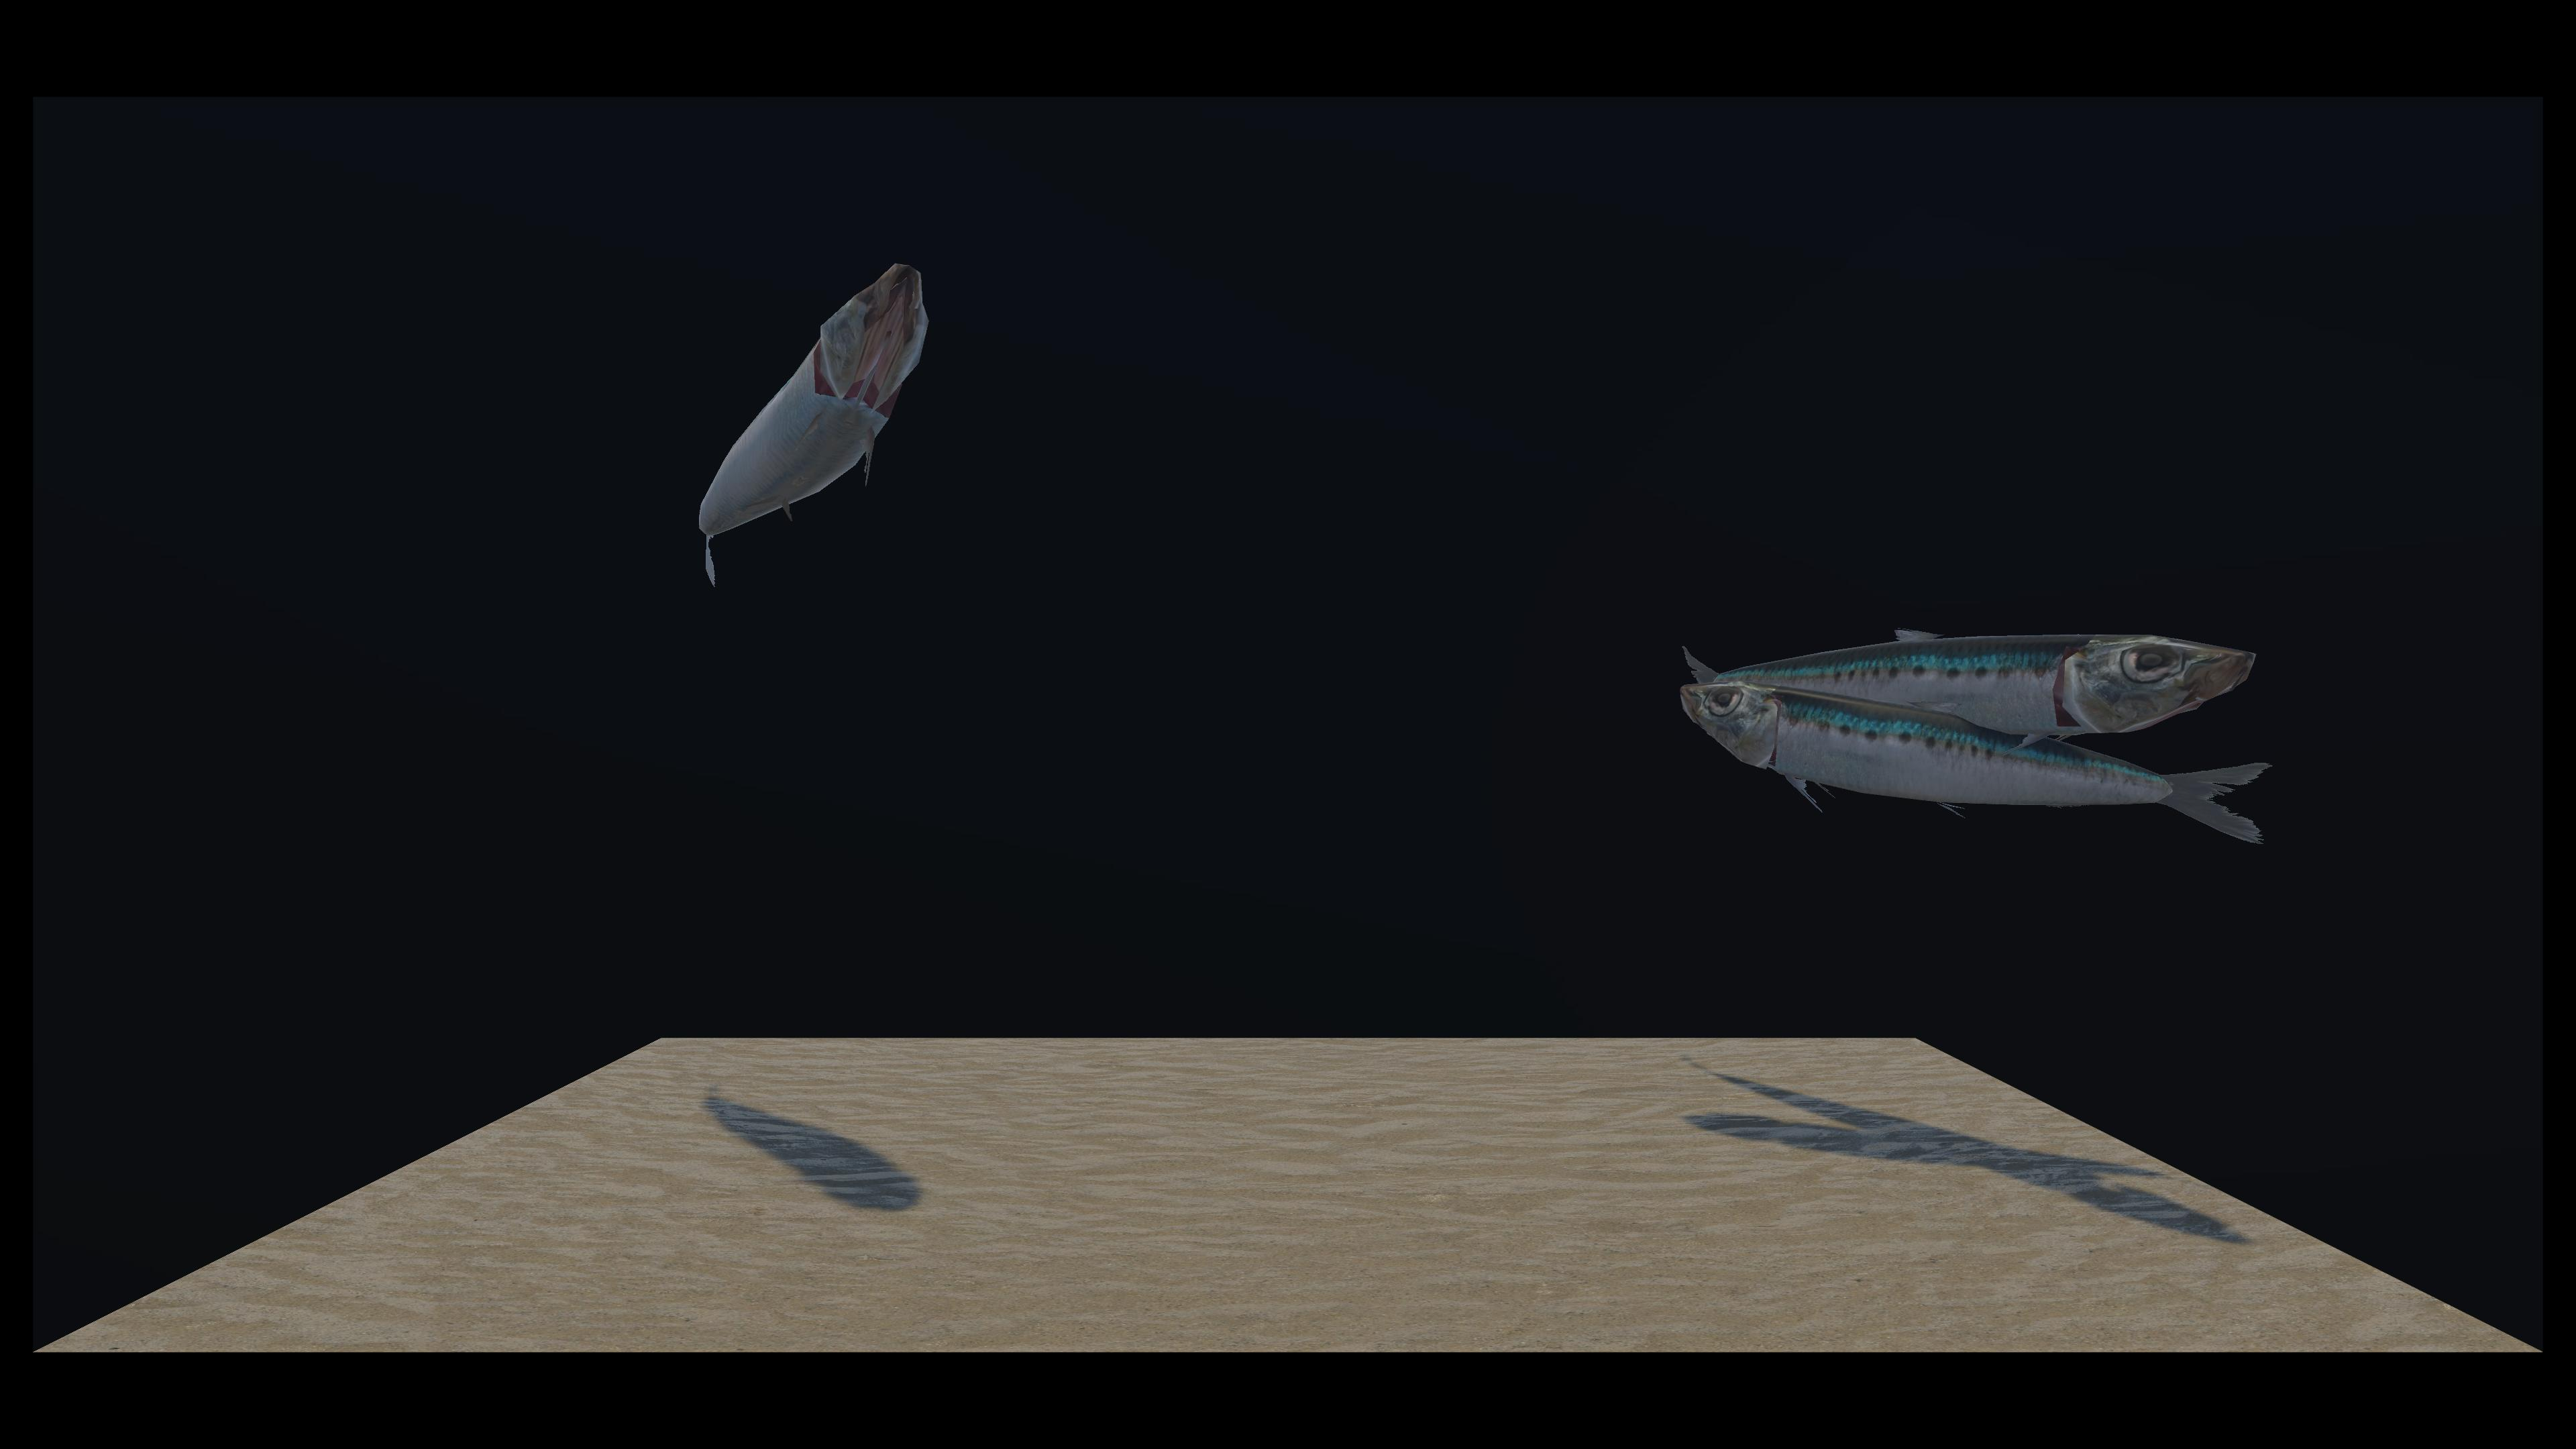Sardine_Front: (867, 295, 2242, 771), (929, 423, 2268, 844), (699, 267, 911, 621)
